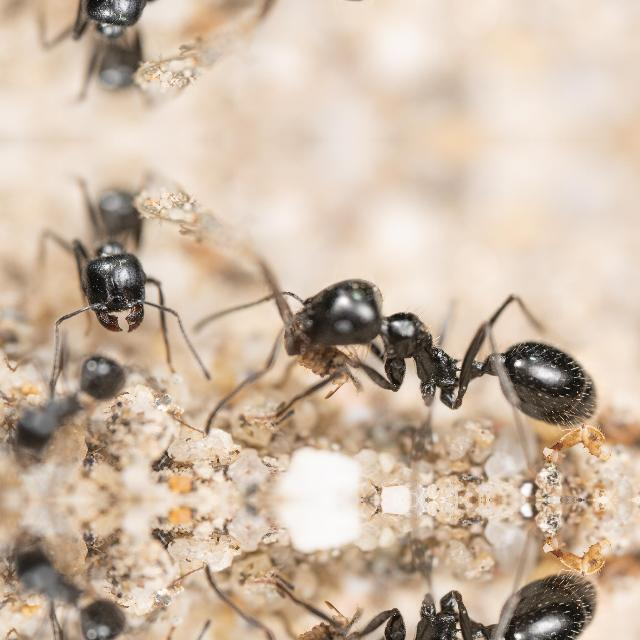Messor: (268, 261, 612, 471), (267, 529, 612, 640), (32, 165, 188, 348), (32, 0, 187, 115), (6, 340, 130, 464), (6, 535, 129, 640)
